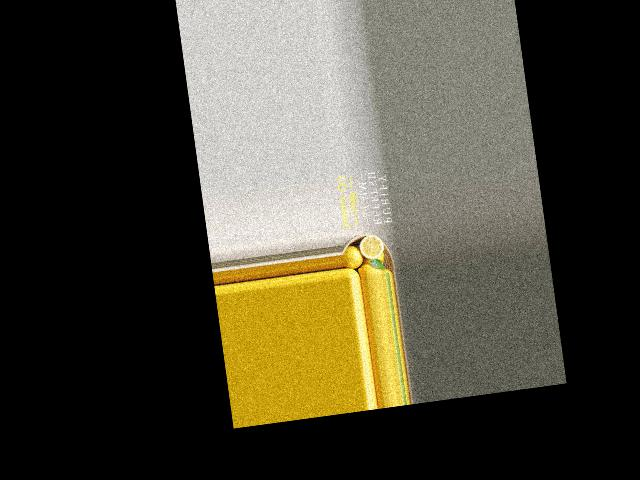lemon: (341, 245, 364, 269)
